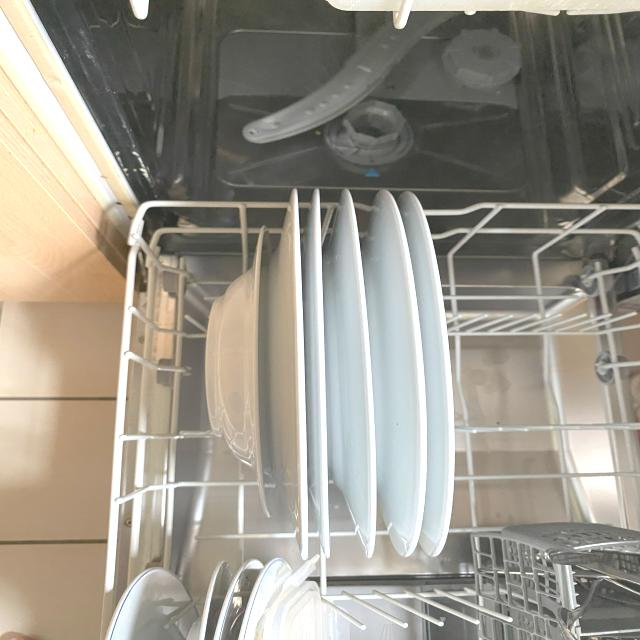empty_slot: (454, 225, 629, 514), (138, 229, 205, 537)
